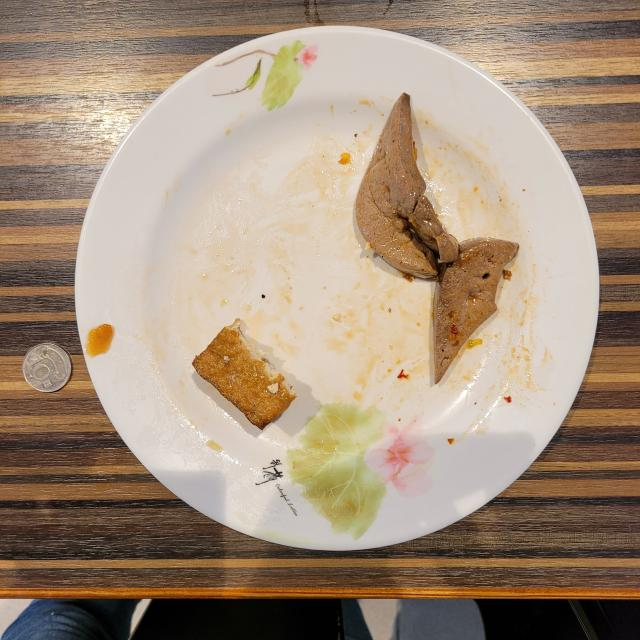coin: (22, 342, 71, 392)
egg tofu: (192, 319, 296, 430)
pig liver: (355, 94, 519, 382)
